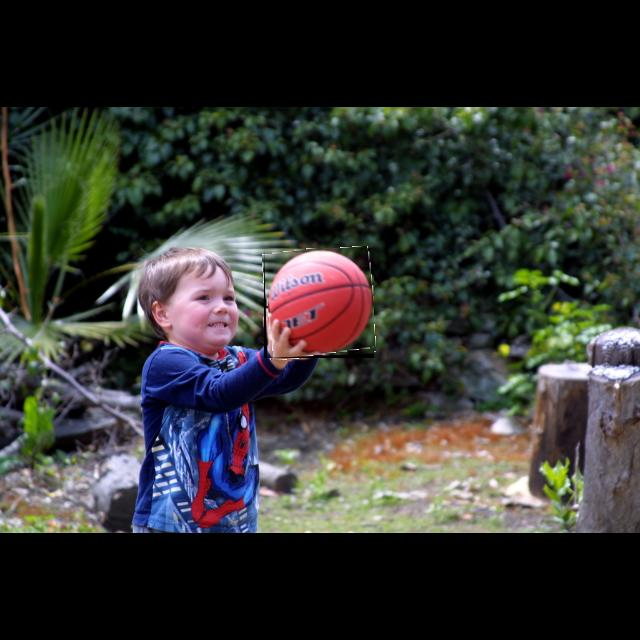Football: (264, 248, 374, 358)
